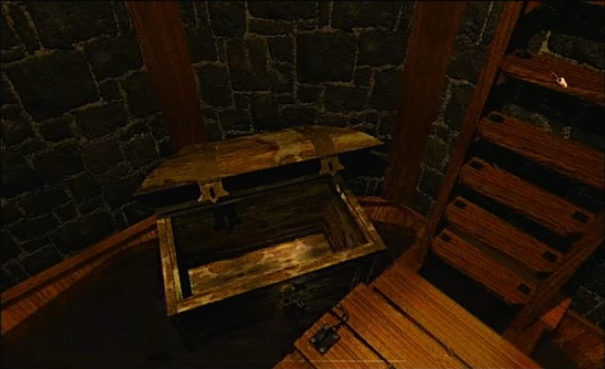Hold: (550, 71, 571, 90)
